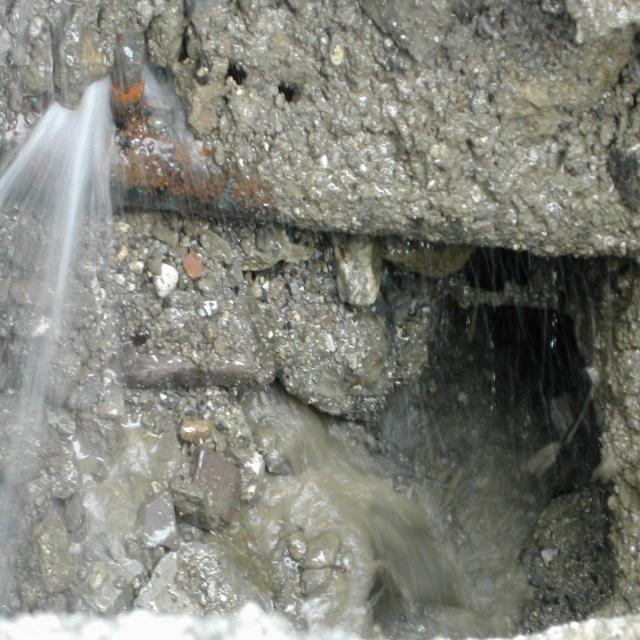leak: (0, 71, 114, 640)
